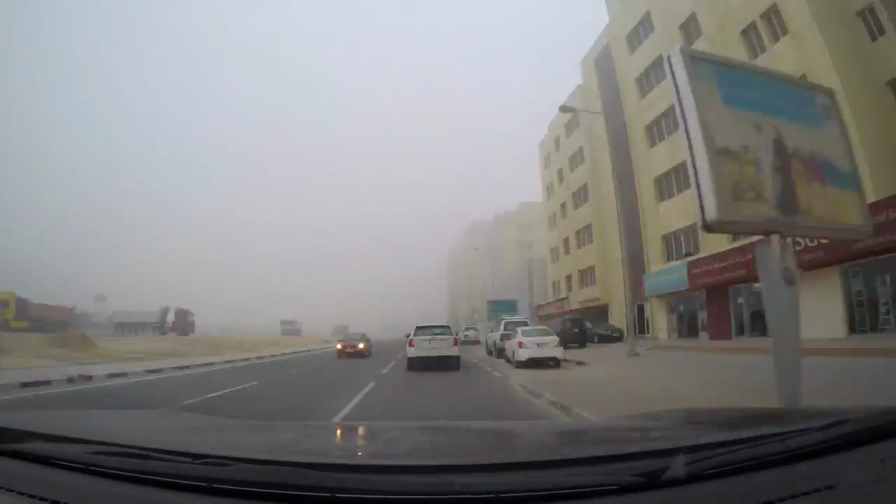bus: (1, 290, 79, 332), (109, 304, 198, 339), (276, 317, 304, 339)
car: (404, 323, 462, 374), (503, 325, 565, 370), (484, 314, 532, 359), (557, 316, 624, 344), (335, 331, 372, 358), (457, 323, 481, 345)
